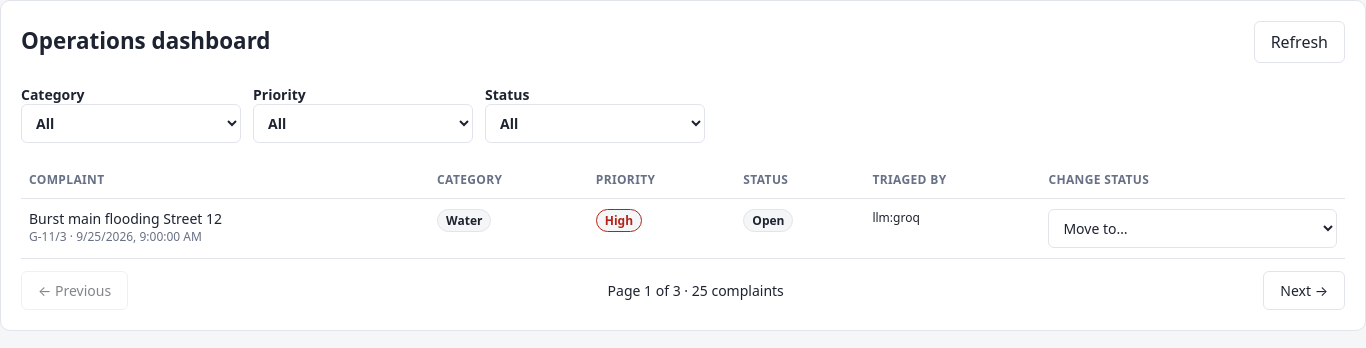
DashboardPage › sends filters and pagination to the API
The image size is (1366, 348).
Check: the row with test id "complaint-row" is shown, box [21,198,1345,258]
Step 1. Select "roads" in the dropdown named "Category filter" → point(131, 124), box [21,104,241,143]
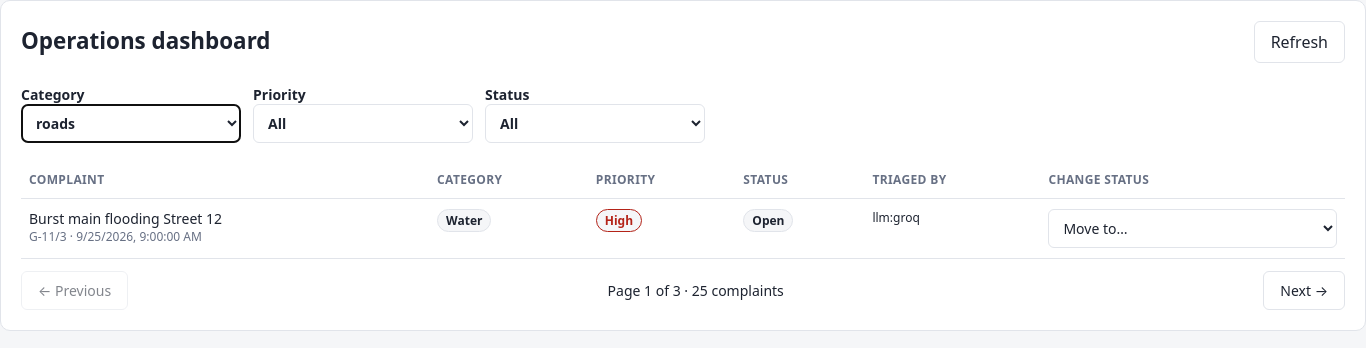
Check: the text "Page 1 of 3 · 25 complaints" is shown, box [608,281,784,300]
Step 2. Click the button "Next →" → point(1304, 290), box [1263,271,1345,310]
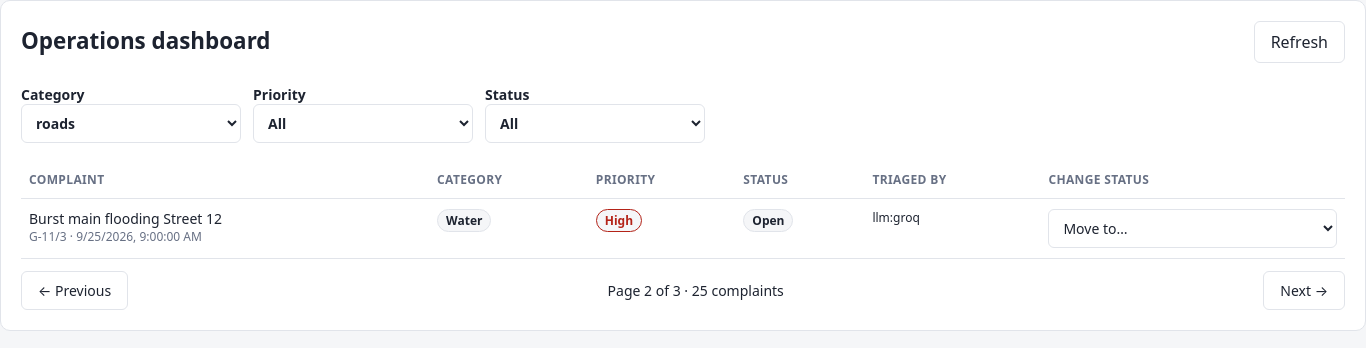
Check: the text "Page 2 of 3 · 25 complaints" is shown, box [608,281,784,300]
